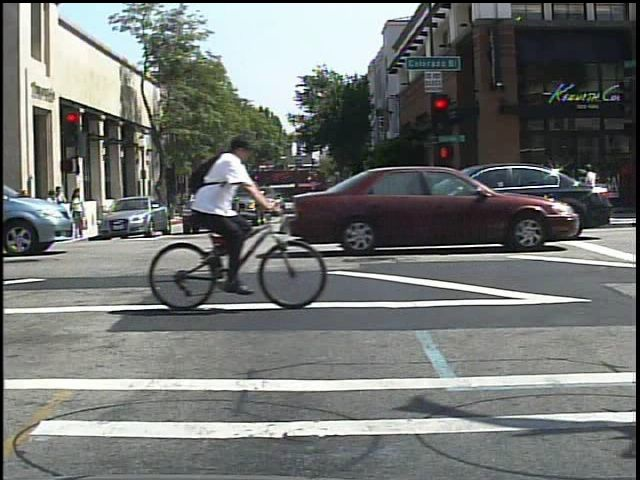person: (191, 124, 273, 303), (583, 159, 609, 224)
